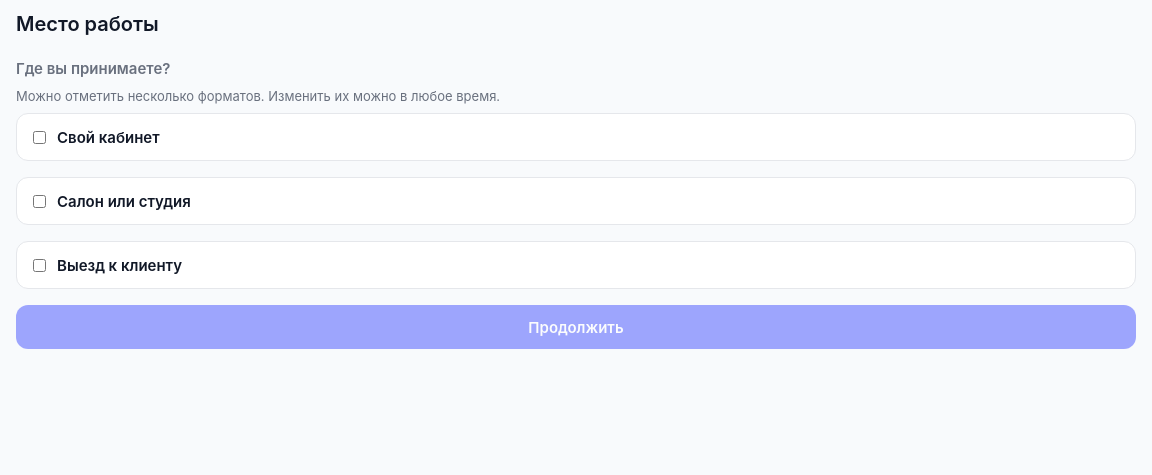
Scenario: два формата = две записи › кабинет → POST место, выезд → POST зона; сводка показывает обе
Click the checkbox labelled "Свой кабинет".
click(40, 137)  # box [33,131,46,144]
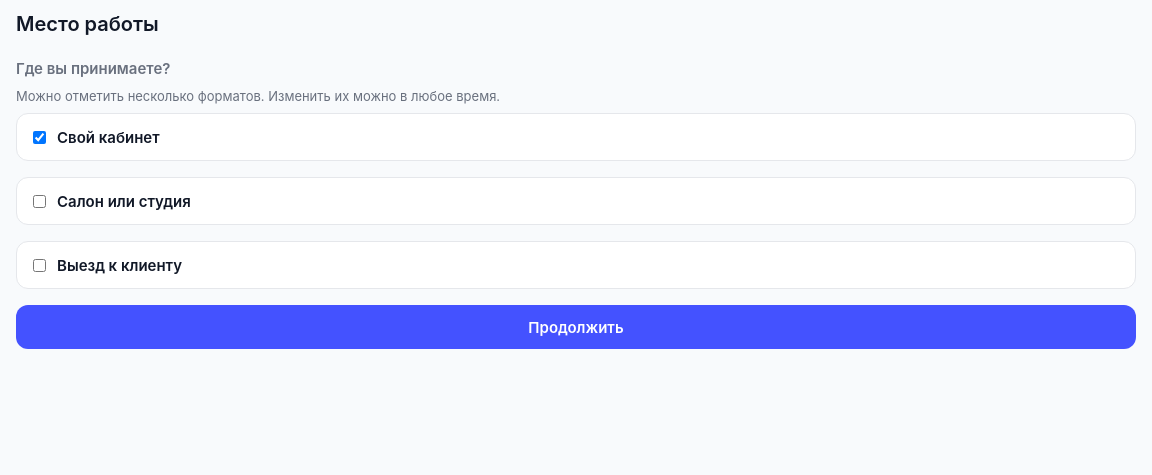
Click the checkbox labelled "Выезд к клиенту".
click(40, 265)  # box [33,259,46,272]
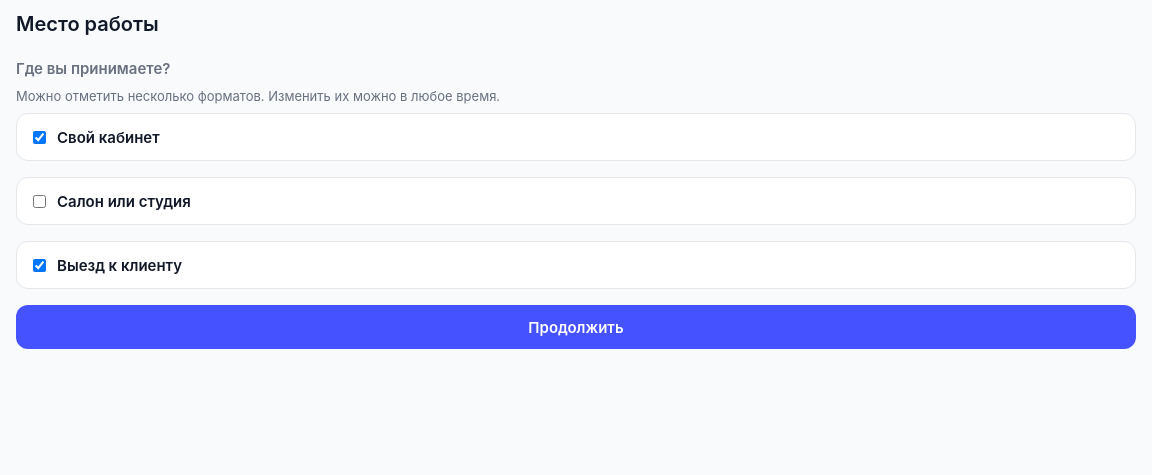
Click the button "Продолжить".
click(576, 327)  # box [16,305,1136,349]
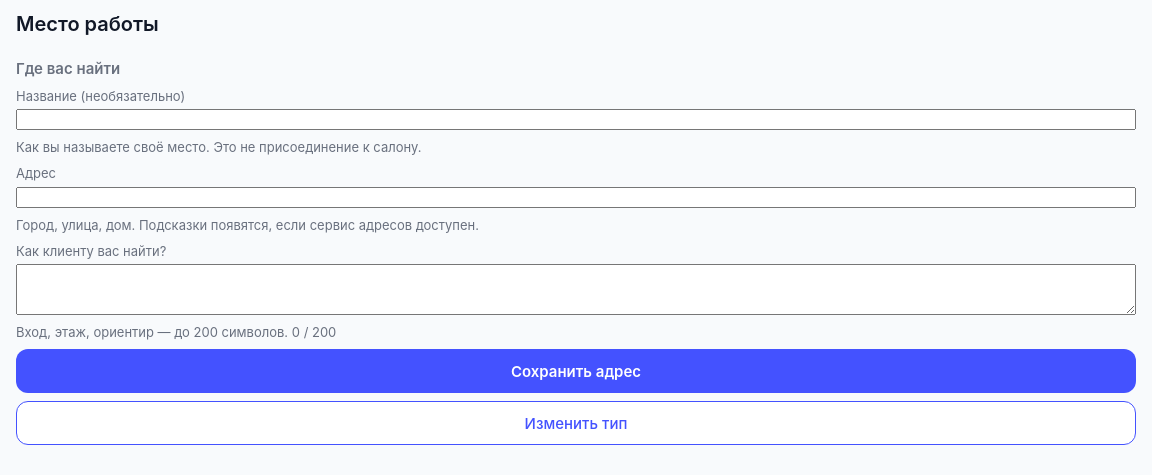
Type "Москва, Тверская, 1" into the field labelled "Адрес".
click(576, 197); type("Москва, Тверская, 1")  # box [16,187,1136,208]
Type "Вход со двора" into the text box labelled "Как клиенту вас найти?".
click(576, 289); type("Вход со двора")  # box [16,264,1136,315]
Click the button "Сохранить адрес".
click(576, 371)  # box [16,349,1136,393]
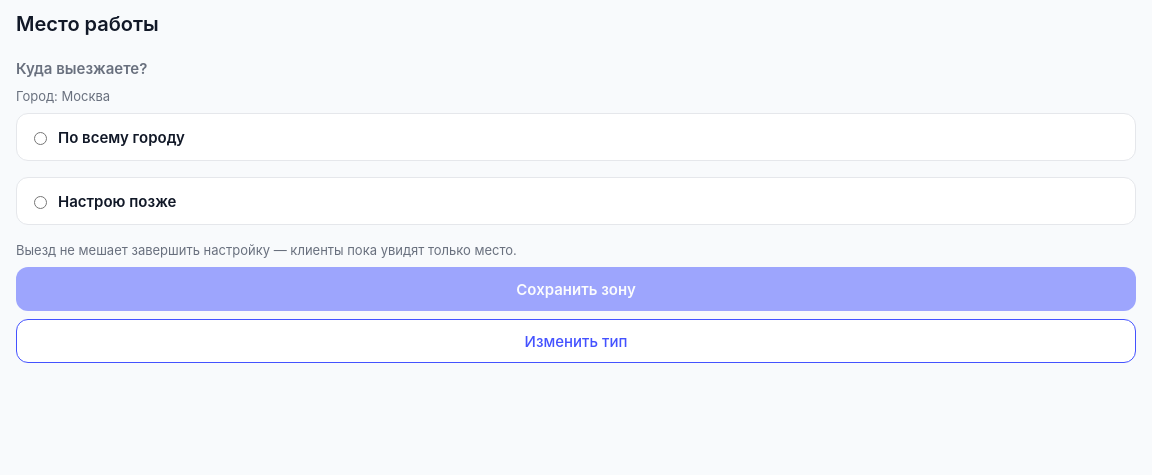
Click the radio button labelled "По всему городу".
click(40, 139)  # box [34,132,47,145]
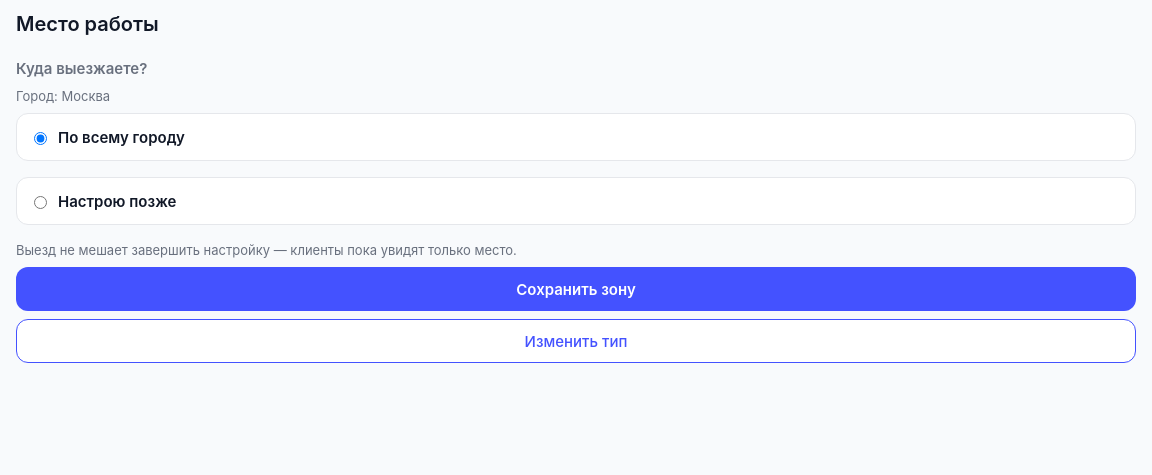
Click the button "Сохранить зону".
click(576, 289)  # box [16,267,1136,311]
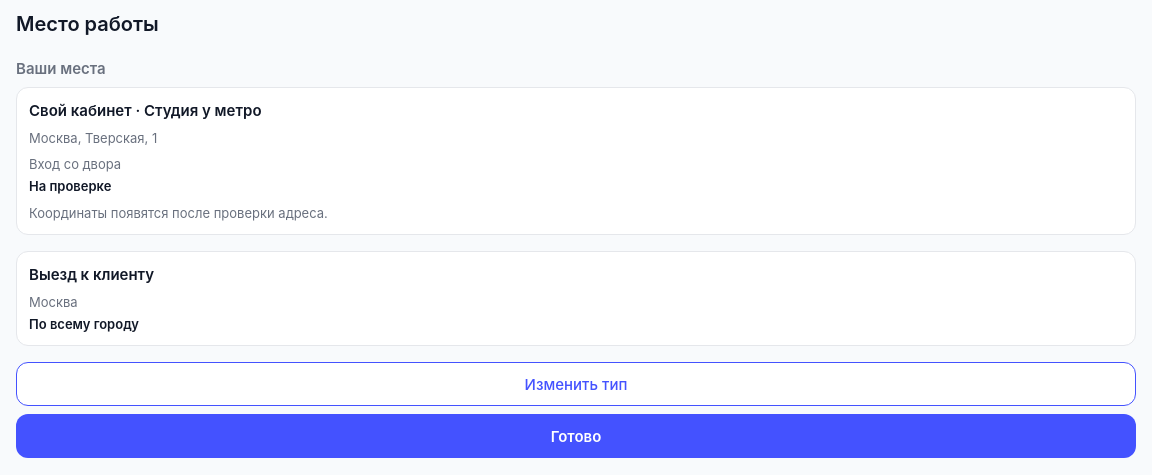
Expected: the text with test id "badge-ar-1" reads "По всему городу", [29,316,139,332]
Expected: the element with test id "place-pl-1" is shown, [16,87,1136,235]
Expected: the element with test id "area-ar-1" is shown, [16,251,1136,346]
